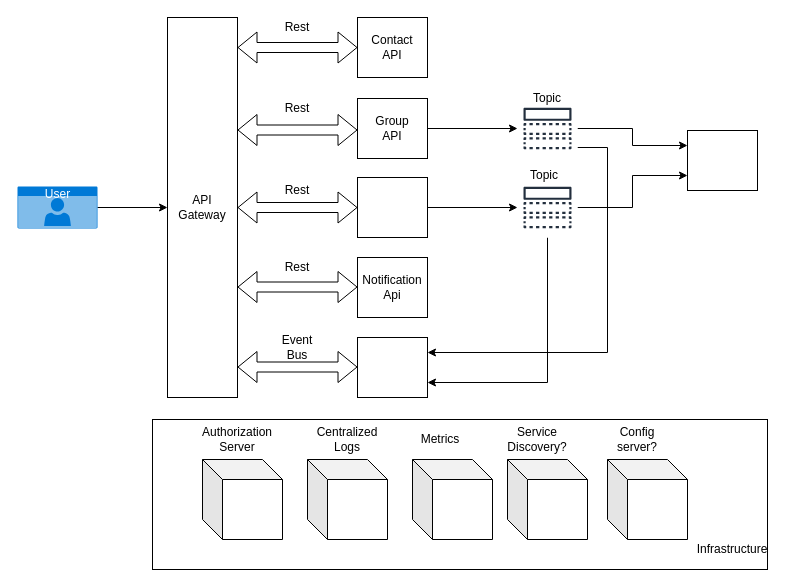
Some shapes in this 785 by 587 pixel diagram are drawn without their labels. Each missing label, with the centre of its shape:
Asset API: [392,207]
Bus notification: [392,367]
Mail notification: [722,160]
